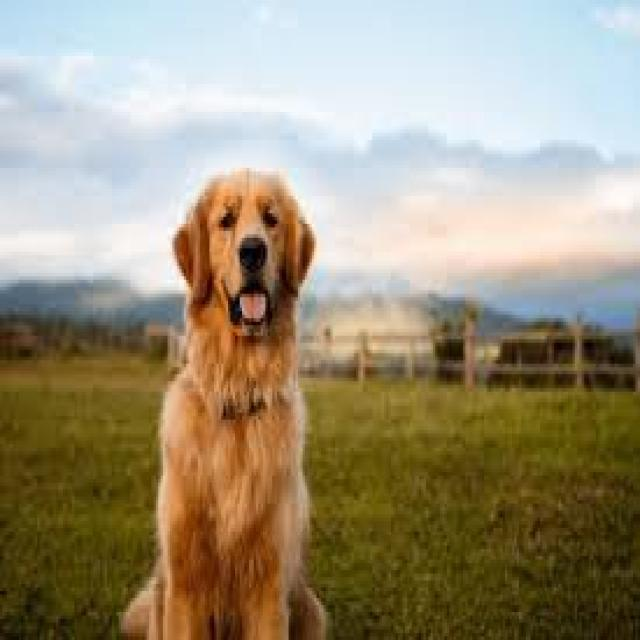Dog: (118, 162, 336, 640)
